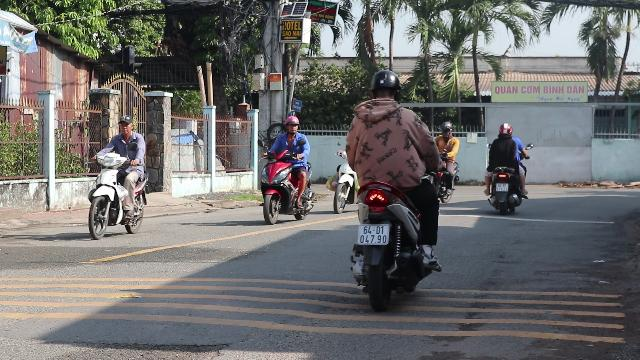helmet: (369, 68, 401, 100), (284, 115, 300, 133)
licenseplate: (359, 224, 389, 244)
motorcyclist: (344, 67, 444, 307), (83, 114, 149, 238), (256, 113, 316, 223)
nohelmet: (116, 115, 134, 135)
